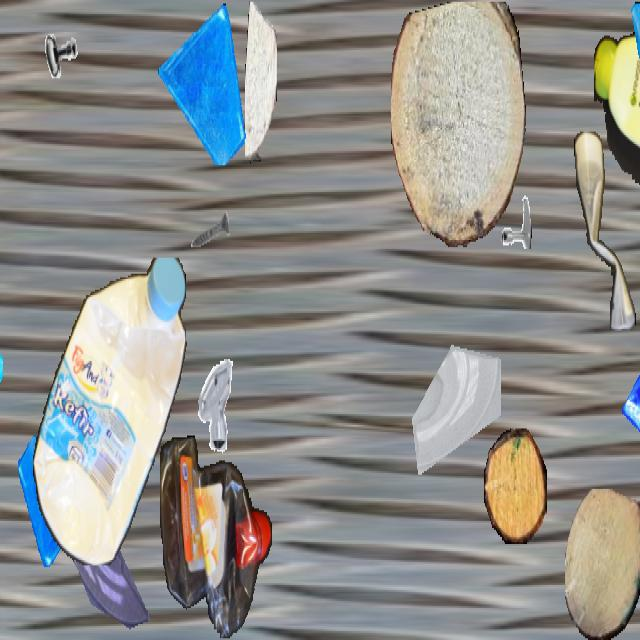glass: (408, 309, 500, 473), (158, 2, 250, 165), (65, 489, 149, 638), (18, 432, 94, 567), (622, 338, 640, 469), (631, 1, 640, 116), (0, 320, 3, 466)
metal: (184, 351, 242, 454), (490, 174, 532, 249), (189, 192, 231, 267), (41, 16, 81, 87)
plastic: (32, 257, 188, 564), (160, 436, 272, 638), (574, 132, 636, 330), (594, 32, 640, 213)
wood: (391, 2, 525, 247), (565, 489, 640, 638), (484, 428, 546, 542), (245, 2, 277, 162)
